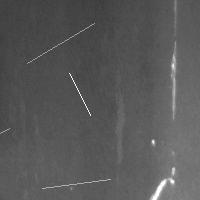scratches: (22, 18, 99, 68), (64, 68, 95, 120), (37, 174, 115, 193), (167, 40, 179, 121), (148, 165, 176, 199), (0, 123, 14, 148)
